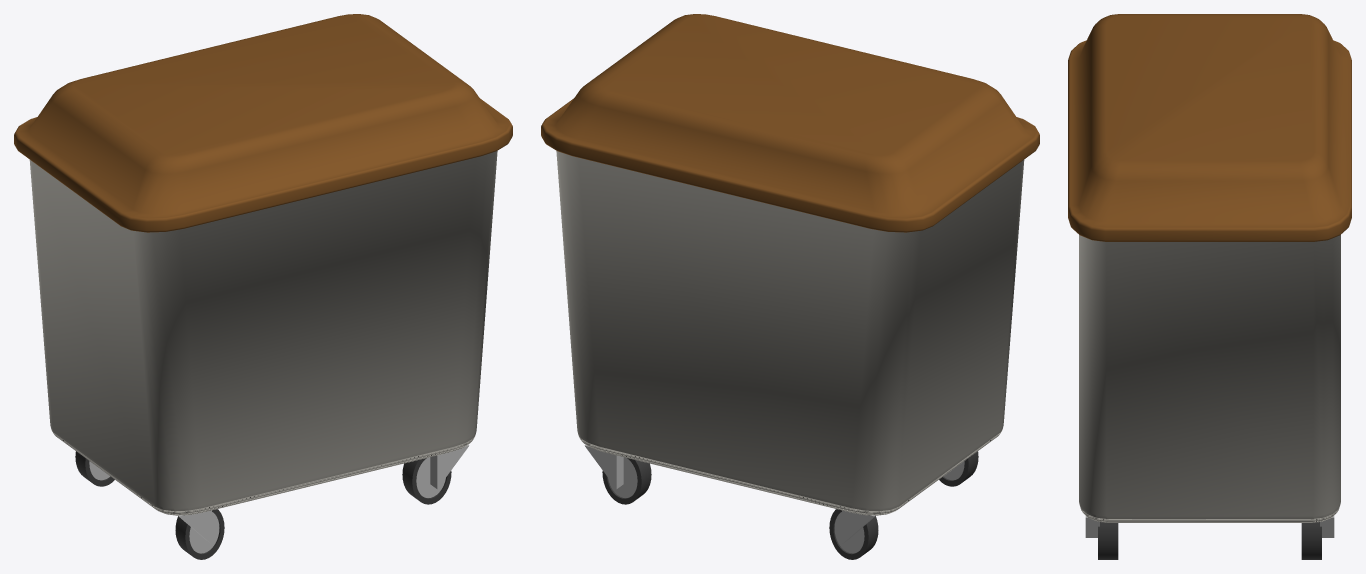
The model's file is contenedor marron.glb.
The picture shows the model from 3 angles, left to right: view 1: azimuth 30°, elevation 25°; view 2: azimuth 150°, elevation 25°; view 3: azimuth 270°, elevation 25°; orthographic projection.
Visible parts, largest first — view 1: Cube; view 2: Cube; view 3: Cube.
Boxes of the visible parts, box(x1,y1,x2,y2) form: Cube: box(14, 14, 512, 559); Cube: box(541, 14, 1039, 559); Cube: box(1068, 14, 1351, 559).
Size of the model in its own units: 2.23 by 2.23 by 1.39.
